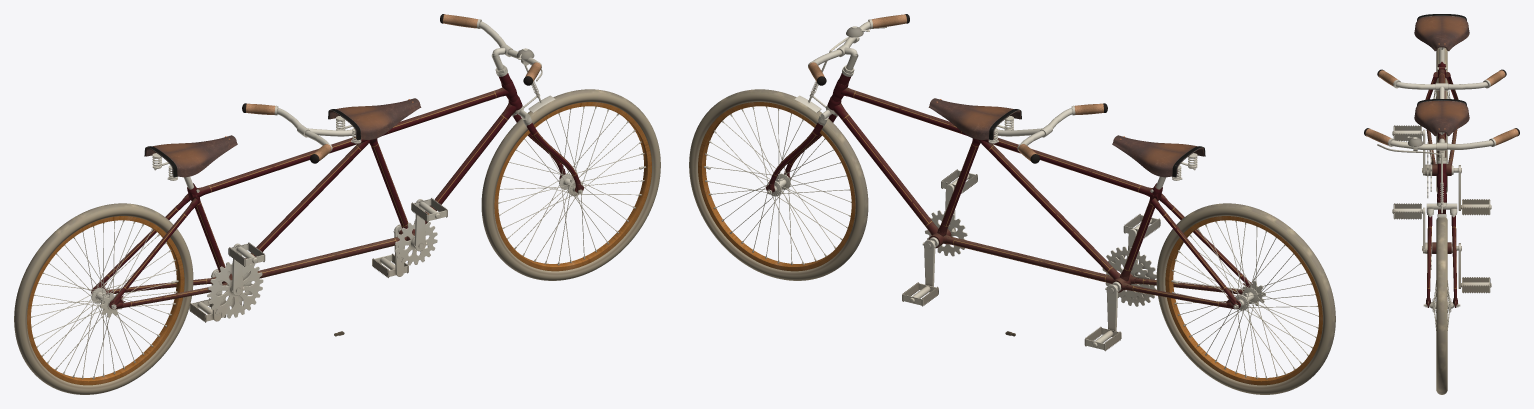
The model's file is tandem.glb.
The picture shows the model from 3 angles, left to right: view 1: azimuth 30°, elevation 25°; view 2: azimuth 150°, elevation 25°; view 3: azimuth 270°, elevation 25°; orthographic projection. The views are drawn at different scales.
Visible parts, largest first — view 1: tandem__enamel, wheel_rear__rubber, wheel_front__rubber, tandem__leather, wheel_front__wood, wheel_rear__wood, wheel_rear__spokes, wheel_front__spokes, crank_rear__metal, tandem__metal, crank_front__metal, steer__metal (+6 smaller); view 2: tandem__enamel, wheel_rear__rubber, wheel_front__rubber, tandem__leather, wheel_rear__spokes, wheel_front__wood, wheel_rear__wood, wheel_front__spokes, crank_rear__metal, tandem__metal, steer__metal, crank_front__metal (+6 smaller); view 3: tandem__leather, wheel_front__rubber, steer__metal, tandem__enamel, tandem__metal, steer__enamel, crank_rear__metal, steer__grips, pedal_front_L__metal, pedal_rear_L__metal, pedal_front_R__metal, pedal_rear_R__metal (+4 smaller).
Part boxes in pixels (x1=…): tandem__enamel: x1=91, y1=73, x2=522, y2=309; wheel_rear__rubber: x1=14, y1=203, x2=193, y2=394; wheel_front__rubber: x1=481, y1=89, x2=660, y2=280; tandem__leather: x1=145, y1=98, x2=421, y2=177; wheel_front__wood: x1=494, y1=102, x2=651, y2=271; wheel_rear__wood: x1=27, y1=216, x2=184, y2=385; wheel_rear__spokes: x1=32, y1=222, x2=175, y2=376; wheel_front__spokes: x1=500, y1=108, x2=643, y2=261; crank_rear__metal: x1=207, y1=243, x2=263, y2=321; tandem__metal: x1=111, y1=67, x2=523, y2=309; crank_front__metal: x1=393, y1=199, x2=437, y2=276; steer__metal: x1=477, y1=19, x2=582, y2=194; tandem__enamel: x1=827, y1=73, x2=1252, y2=309; wheel_rear__rubber: x1=1156, y1=203, x2=1335, y2=394; wheel_front__rubber: x1=689, y1=89, x2=868, y2=280; tandem__leather: x1=928, y1=98, x2=1204, y2=177; wheel_rear__spokes: x1=1174, y1=222, x2=1317, y2=375; wheel_front__wood: x1=698, y1=102, x2=855, y2=271; wheel_rear__wood: x1=1165, y1=216, x2=1322, y2=385; wheel_front__spokes: x1=708, y1=108, x2=850, y2=261; crank_rear__metal: x1=1102, y1=228, x2=1156, y2=331; tandem__metal: x1=826, y1=67, x2=1238, y2=309; steer__metal: x1=767, y1=19, x2=886, y2=194; crank_front__metal: x1=922, y1=184, x2=967, y2=286; tandem__leather: x1=1414, y1=16, x2=1469, y2=136; wheel_front__rubber: x1=1436, y1=217, x2=1447, y2=394; steer__metal: x1=1377, y1=136, x2=1496, y2=307; tandem__enamel: x1=1425, y1=62, x2=1458, y2=253; tandem__metal: x1=1393, y1=14, x2=1490, y2=252; steer__enamel: x1=1426, y1=215, x2=1457, y2=307; crank_rear__metal: x1=1421, y1=129, x2=1462, y2=210; steer__grips: x1=1364, y1=128, x2=1519, y2=145; pedal_front_L__metal: x1=1462, y1=277, x2=1491, y2=293; pedal_rear_L__metal: x1=1462, y1=199, x2=1491, y2=215; pedal_front_R__metal: x1=1392, y1=203, x2=1422, y2=219; pedal_rear_R__metal: x1=1392, y1=125, x2=1422, y2=141.
Bounding box in the file's own units: 2.4 × 0.9076 × 0.5747.
8 materials, 8 textured.
